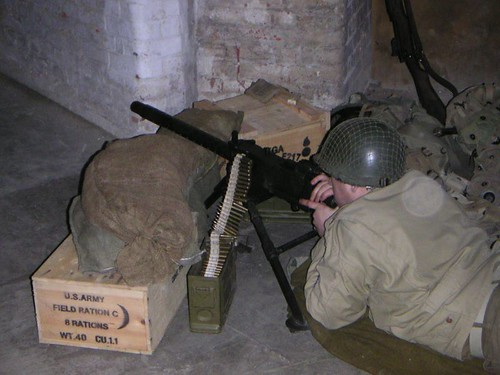soldier: (314, 128, 500, 373)
weapon: (134, 79, 329, 311)
